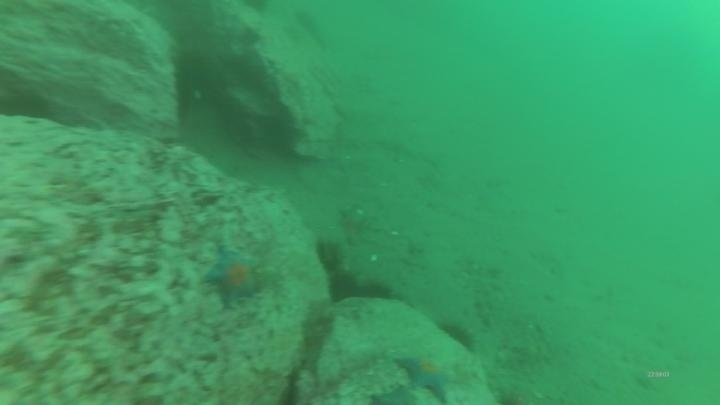echinus: (436, 317, 479, 356), (325, 269, 362, 305), (313, 237, 346, 276), (355, 276, 395, 306)
holothurian: (297, 297, 337, 385)
starfish: (200, 245, 265, 311), (390, 348, 457, 404), (334, 203, 373, 247), (368, 381, 420, 403)
